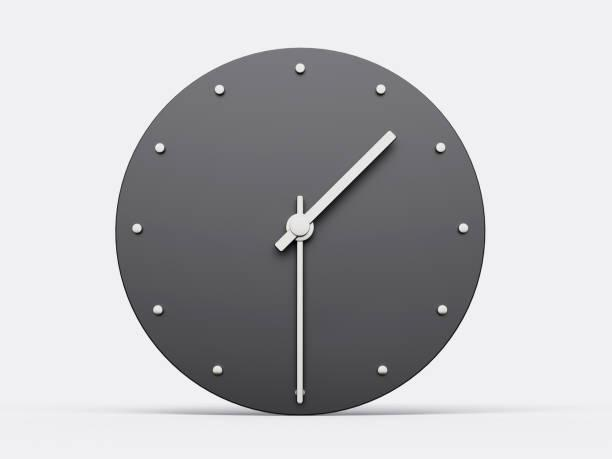clock: (113, 43, 486, 416)
